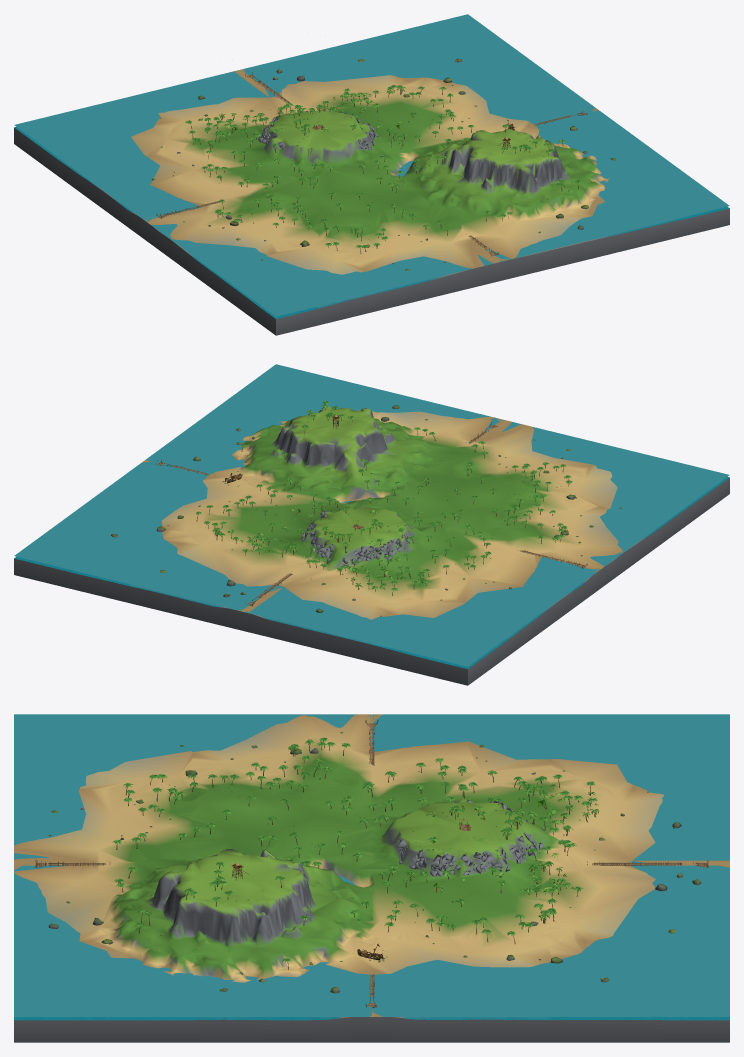
Rendered from near.glb.
The picture shows the model from 3 angles, top to bottom: view 1: azimuth 30°, elevation 25°; view 2: azimuth 150°, elevation 25°; view 3: azimuth 270°, elevation 25°; orthographic projection. The views are drawn at different scales.
Parts seen in each view (by area): view 1: near-placeholder; view 2: near-placeholder; view 3: near-placeholder.
Boxes of the visible parts, x1,y1,x2,y2 form: near-placeholder: [14, 14, 729, 335]; near-placeholder: [14, 364, 729, 685]; near-placeholder: [14, 714, 729, 1042].
Size of the model in its own units: 500 by 65.81 by 500.
